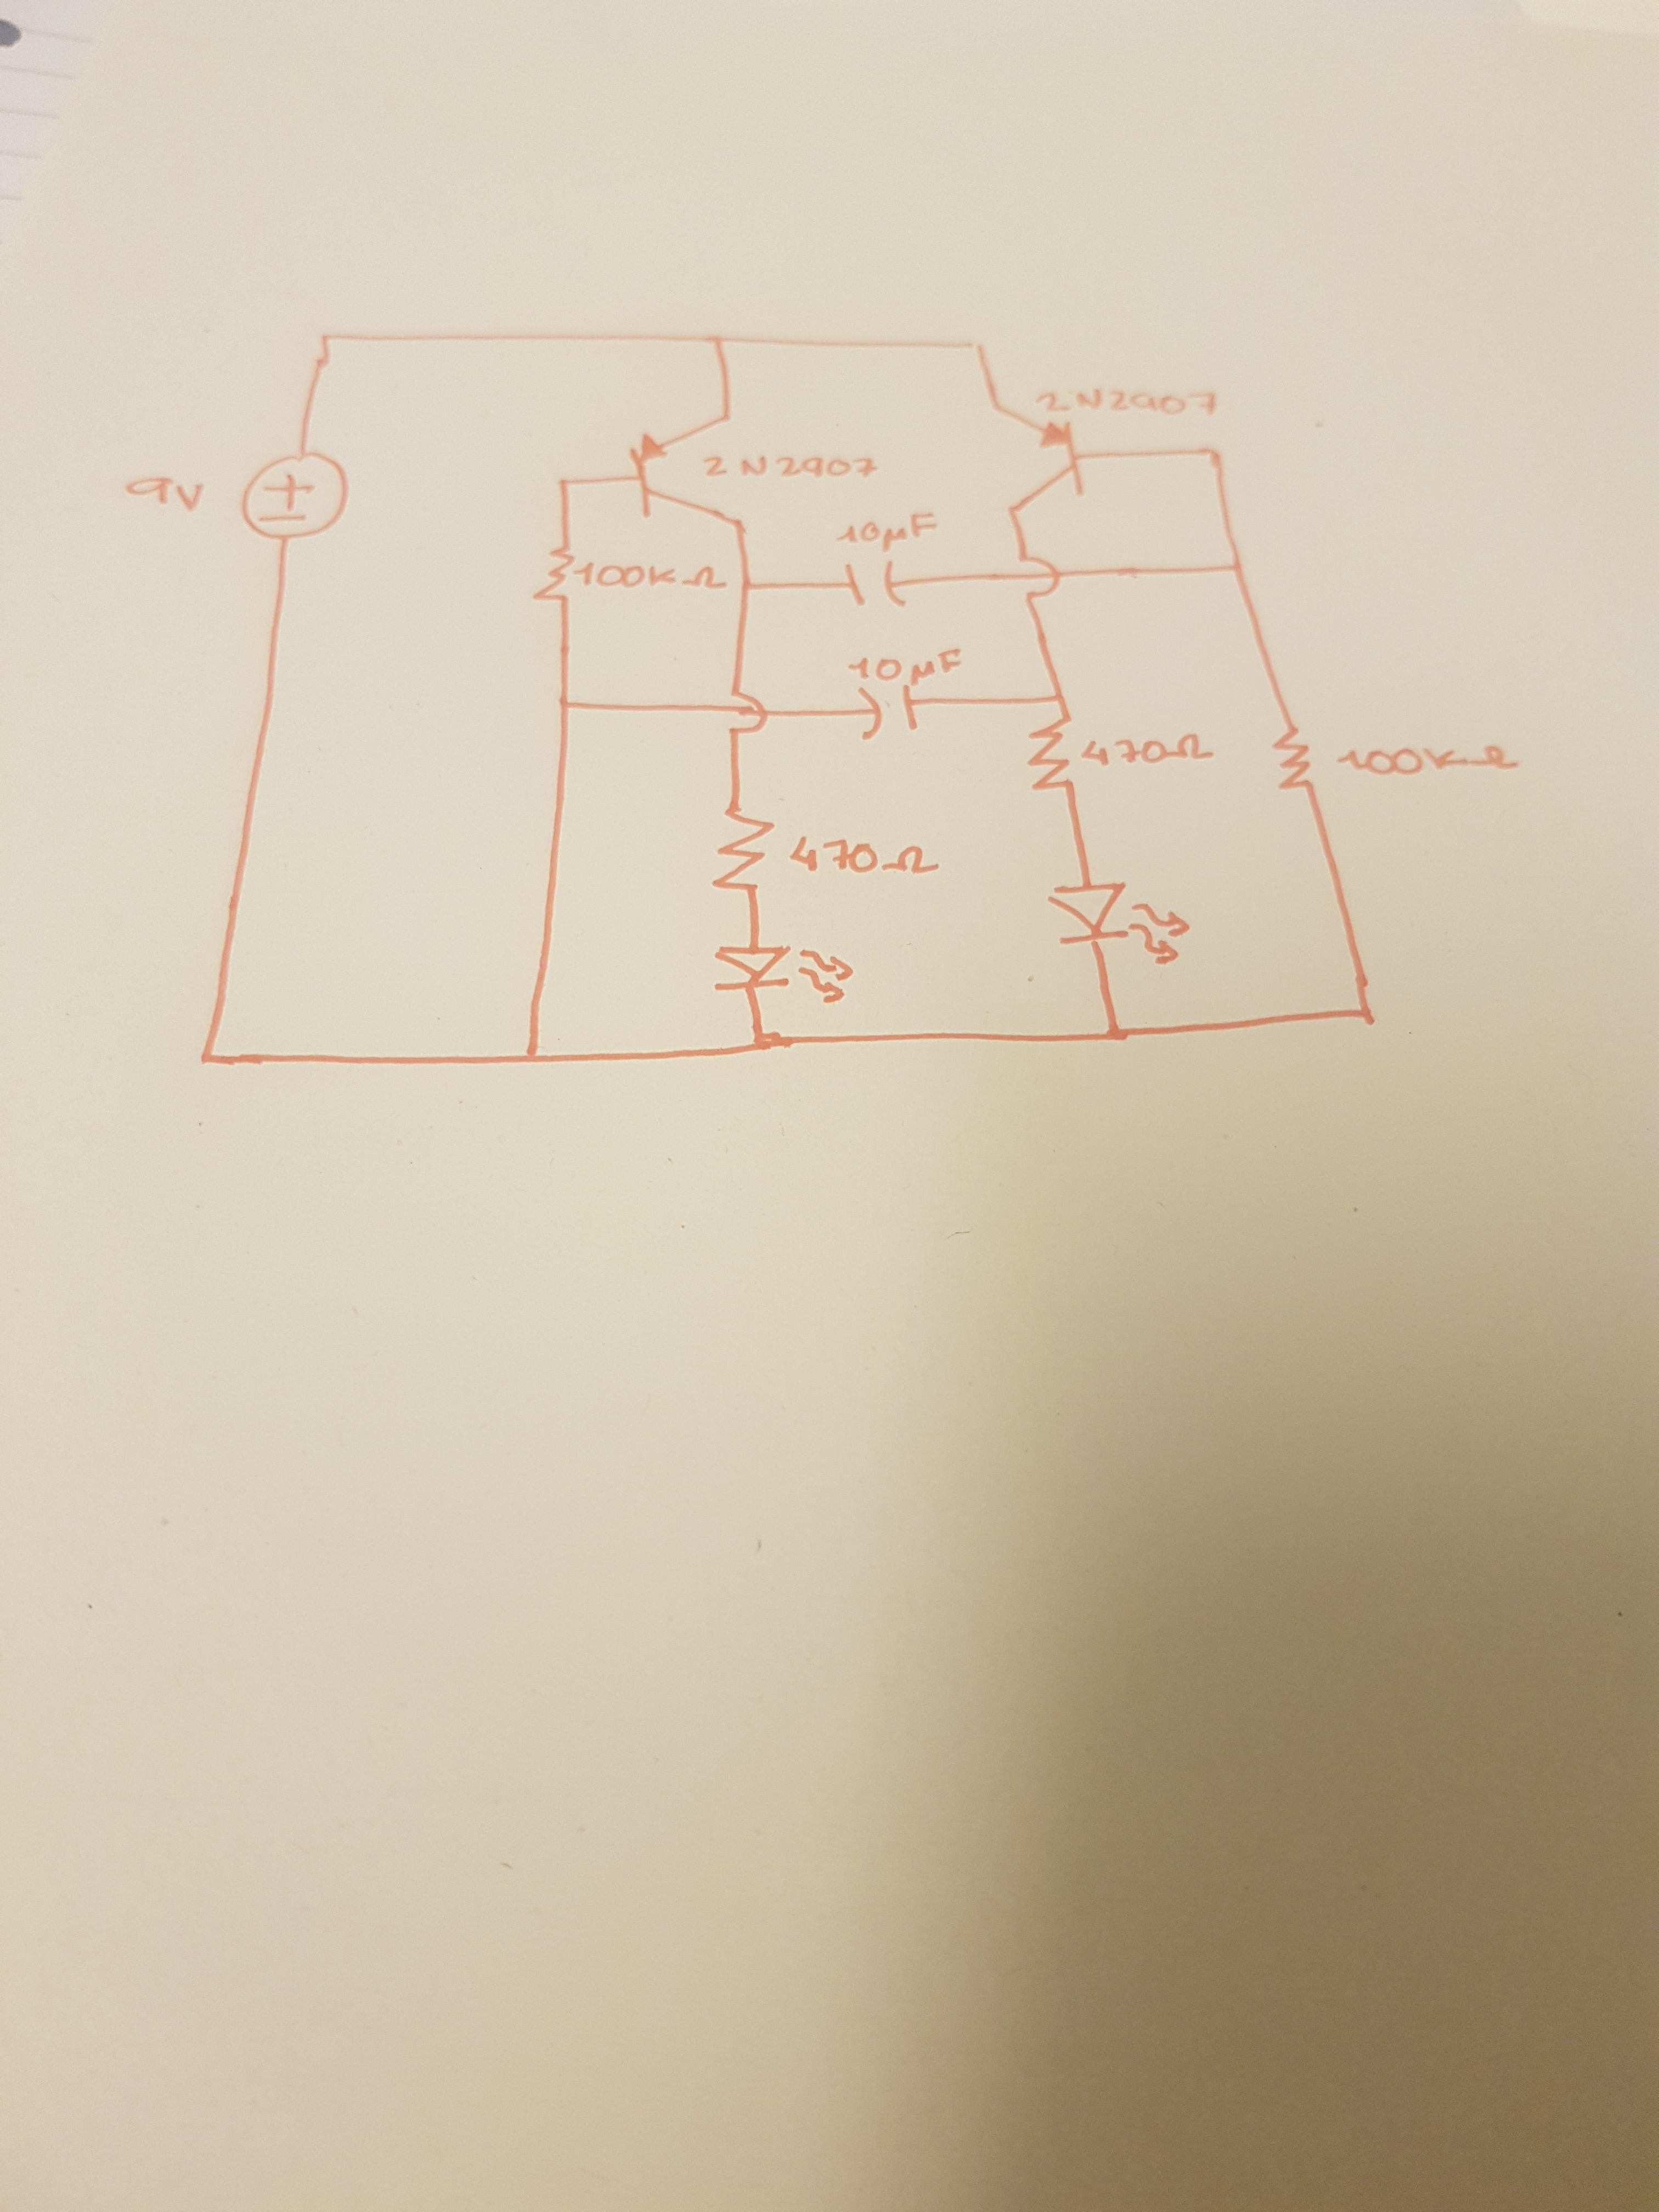capacitor.unpolarized: (852, 679, 924, 740), (840, 557, 913, 613)
crossover: (716, 683, 777, 744), (1012, 545, 1066, 606)
diode.light_emitting: (1044, 881, 1194, 968), (708, 939, 857, 1005)
junction: (746, 1022, 789, 1062), (1100, 1015, 1140, 1055), (1351, 996, 1385, 1035), (514, 1038, 549, 1075), (1199, 437, 1230, 469), (1223, 556, 1249, 585), (552, 690, 579, 718), (193, 1045, 221, 1071), (737, 575, 762, 601), (1047, 686, 1072, 709), (552, 474, 577, 496), (314, 329, 338, 352), (704, 333, 728, 355), (964, 336, 988, 359)
resistor: (709, 803, 781, 895), (1025, 709, 1082, 791), (1269, 719, 1324, 796), (528, 536, 580, 610)
text: (789, 831, 943, 873), (1032, 388, 1223, 421), (1337, 742, 1521, 775), (695, 451, 885, 482), (1082, 728, 1220, 770), (572, 557, 727, 592), (842, 643, 965, 683), (835, 510, 938, 552), (124, 472, 204, 514)
transistor: (626, 411, 756, 531), (986, 397, 1096, 523)
voltage.dc: (232, 446, 357, 545)
